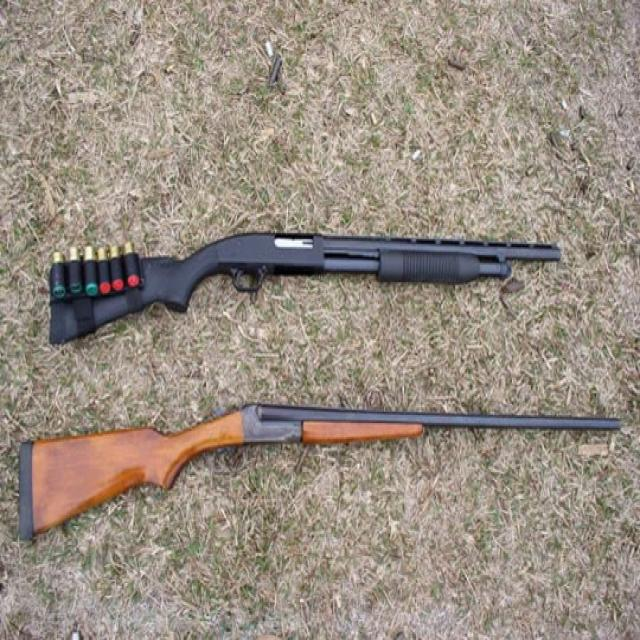ShotGun: (19, 404, 621, 543), (49, 233, 562, 345)
